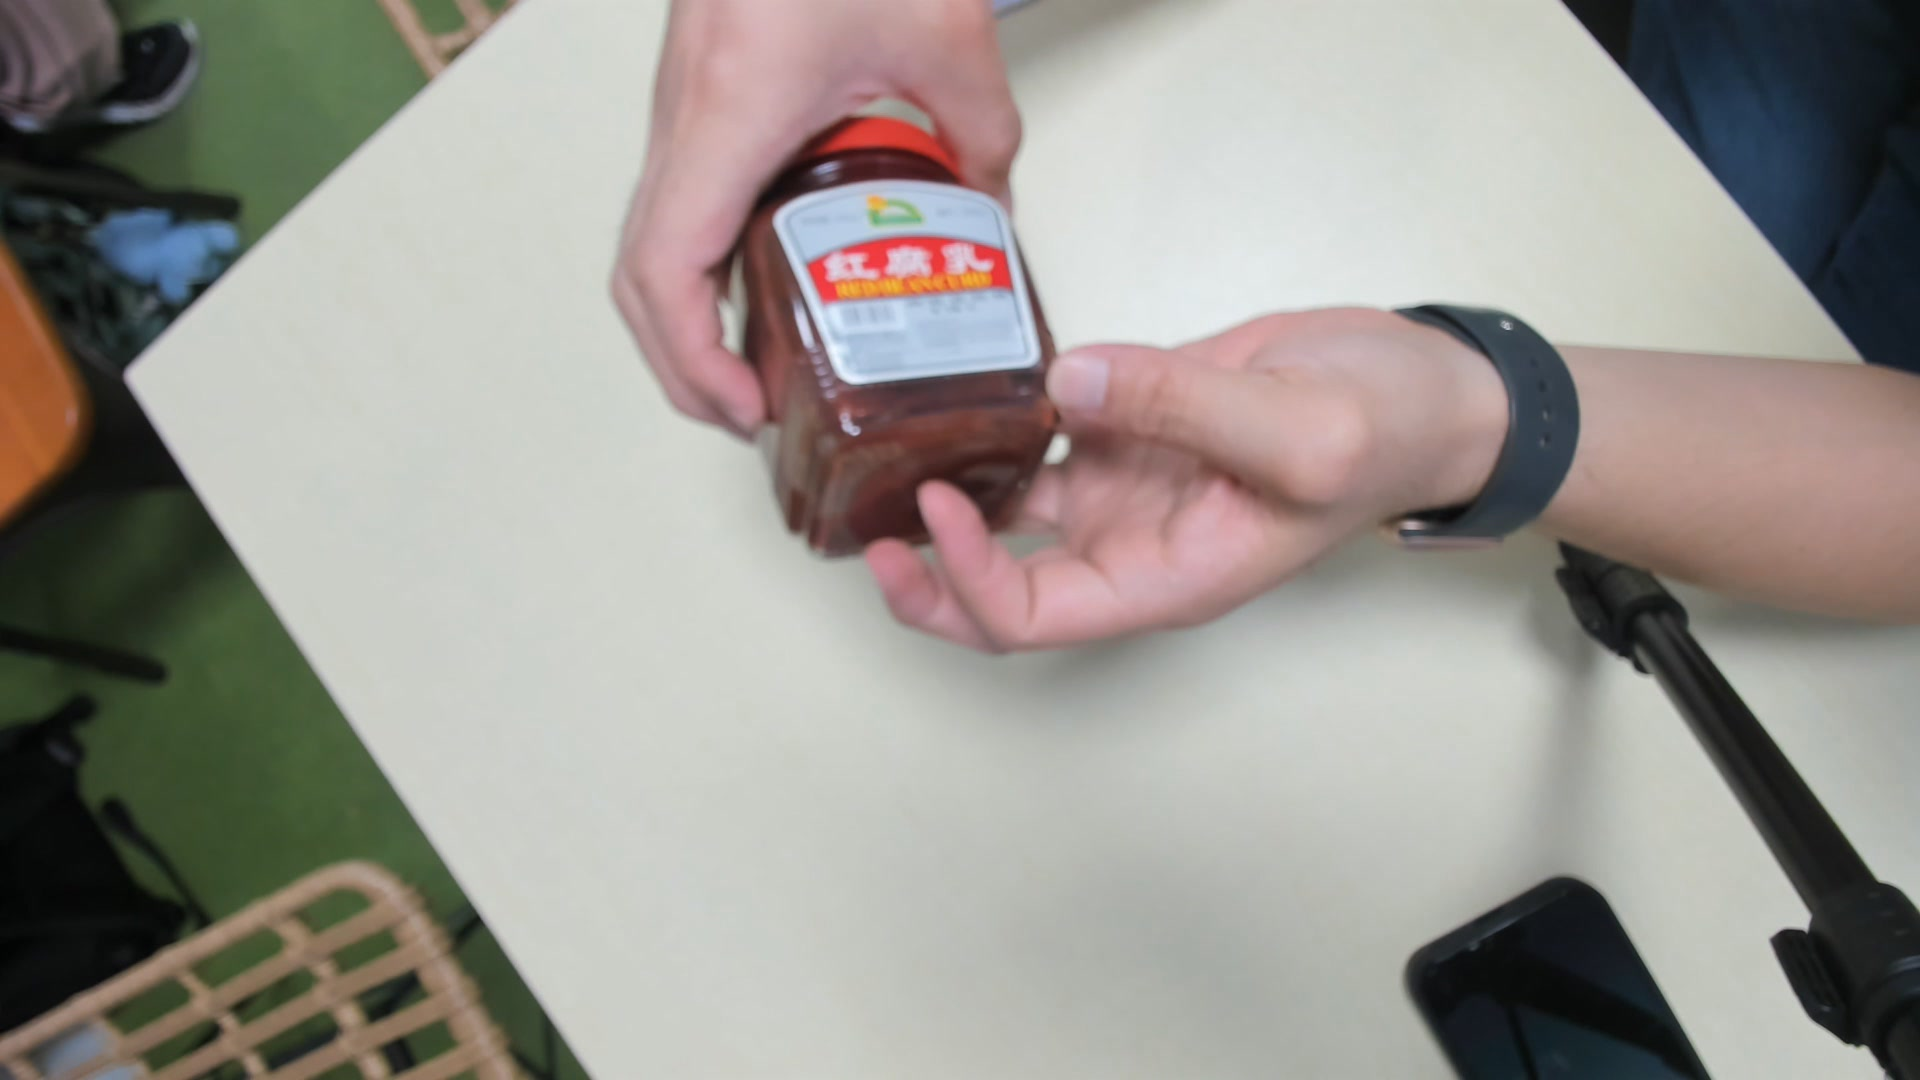OtherSauceDressing_200-299g_NonHalal_NonHealthy: (750, 120, 1055, 555)
